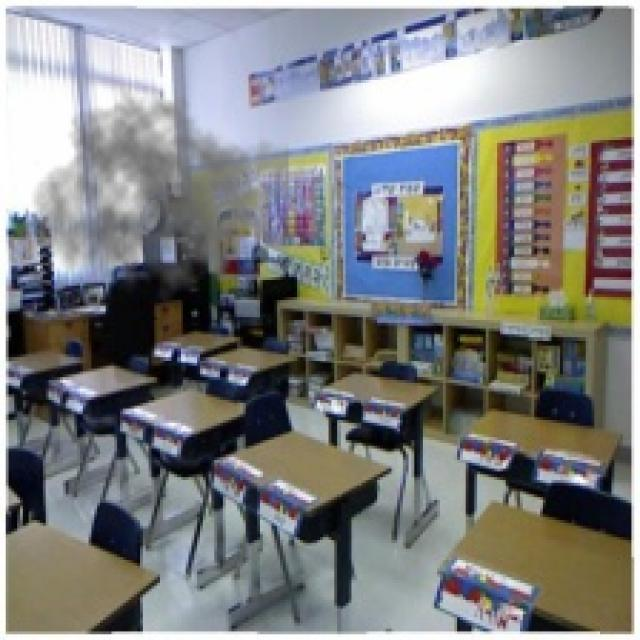Smoke: (32, 85, 288, 318)
